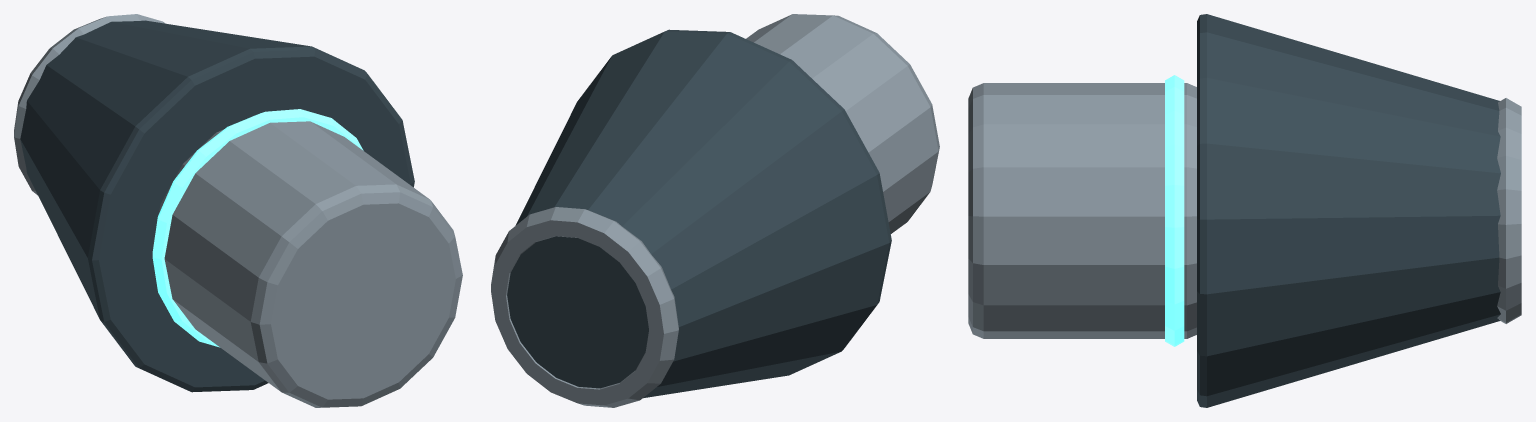
File: ThrusterSmall.fbx
3 renders of one model, left to right at view 1: azimuth 30°, elevation 25°; view 2: azimuth 150°, elevation 25°; view 3: azimuth 270°, elevation 25°, orthographic. The views are drawn at different scales.
Visible parts, largest first — view 1: ThrusterSmall_Body, ThrusterSmall_Nozzle, ThrusterSmall_GlowRing, ThrusterSmall_MountRing; view 2: ThrusterSmall_Nozzle, ThrusterSmall_Body, ThrusterSmall_MountRing; view 3: ThrusterSmall_Nozzle, ThrusterSmall_Body, ThrusterSmall_GlowRing, ThrusterSmall_MountRing.
Boxes of the visible parts, box(x1,y1,x2,y2) form: ThrusterSmall_Body: box(153, 115, 462, 407); ThrusterSmall_Nozzle: box(20, 20, 414, 392); ThrusterSmall_GlowRing: box(152, 109, 363, 347); ThrusterSmall_MountRing: box(14, 14, 165, 195); ThrusterSmall_Nozzle: box(507, 29, 891, 398); ThrusterSmall_Body: box(746, 14, 939, 233); ThrusterSmall_MountRing: box(491, 207, 678, 407); ThrusterSmall_Nozzle: box(1197, 14, 1500, 407); ThrusterSmall_Body: box(968, 83, 1196, 338); ThrusterSmall_GlowRing: box(1165, 75, 1184, 346); ThrusterSmall_MountRing: box(1497, 98, 1521, 323).
Bounding box in the file's own units: 0.5517 × 0.5517 × 0.774.
